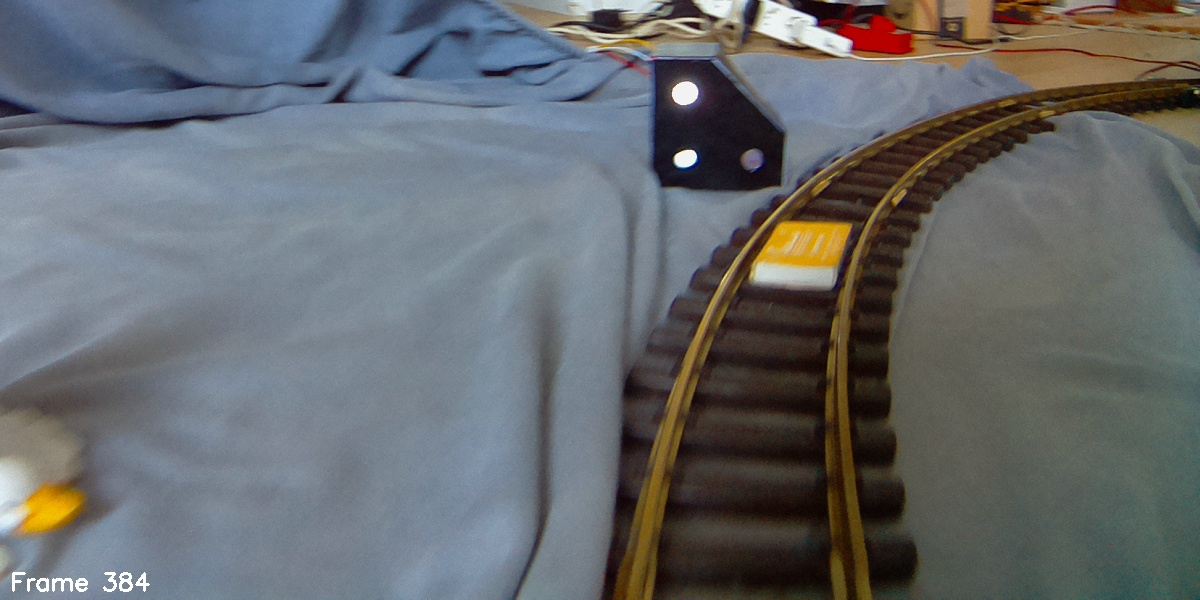Fahrt: (651, 43, 788, 195)
